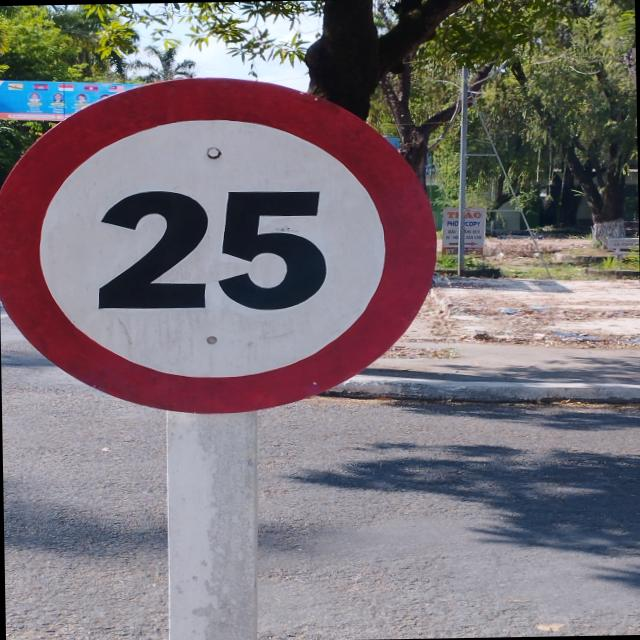Tre_Em: (0, 70, 438, 417)
